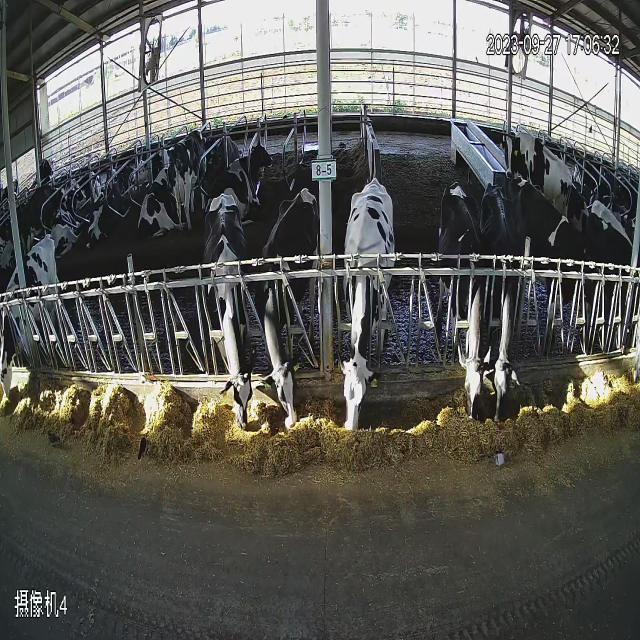feeding: (340, 163, 410, 452), (262, 177, 320, 474), (434, 159, 488, 441), (485, 115, 527, 432), (202, 192, 252, 450), (0, 230, 56, 415)
lying down: (34, 112, 176, 260), (207, 88, 280, 211)
standing: (172, 97, 210, 256)
